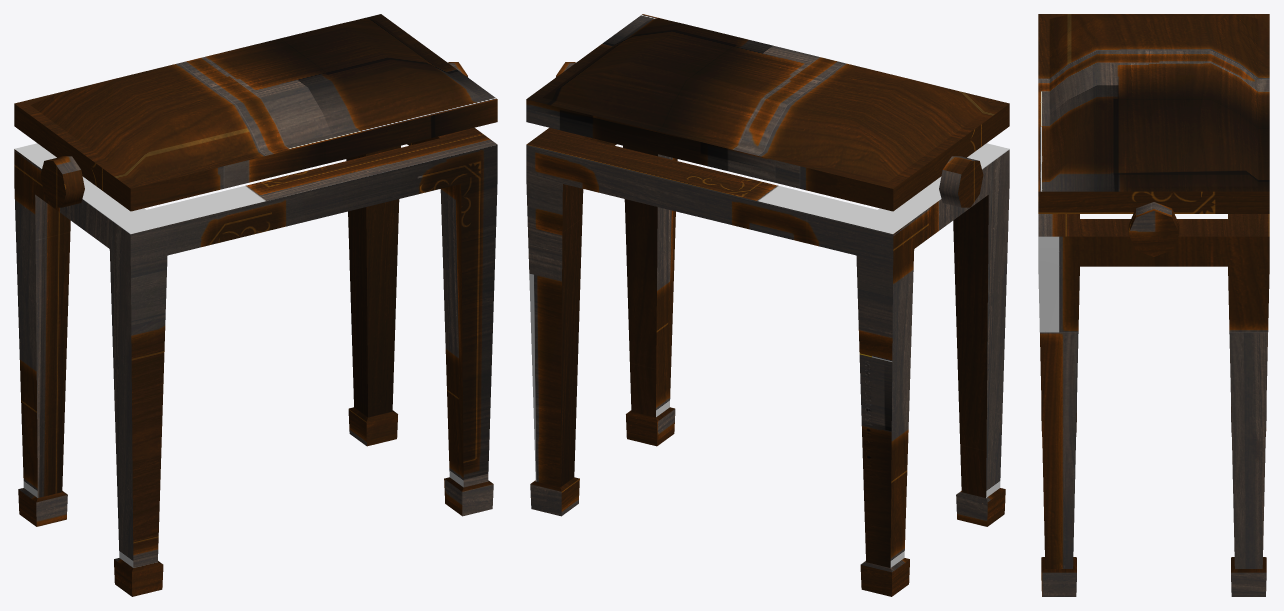
The model's file is piano_chair.fbx.
3 renders of one model, left to right at view 1: azimuth 30°, elevation 25°; view 2: azimuth 150°, elevation 25°; view 3: azimuth 270°, elevation 25°, orthographic.
Visible parts, largest first — view 1: piano_chair; view 2: piano_chair; view 3: piano_chair.
Boxes of the visible parts, x1,y1,x2,y2 form: piano_chair: (14, 14, 497, 596); piano_chair: (526, 14, 1009, 596); piano_chair: (1038, 14, 1269, 596).
Bounding box in the file's own units: 87.4 × 90.51 × 43.56.
1 material, 1 textured.
